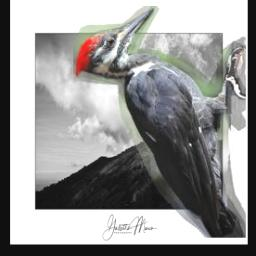Woodpecker: (73, 7, 246, 239)
